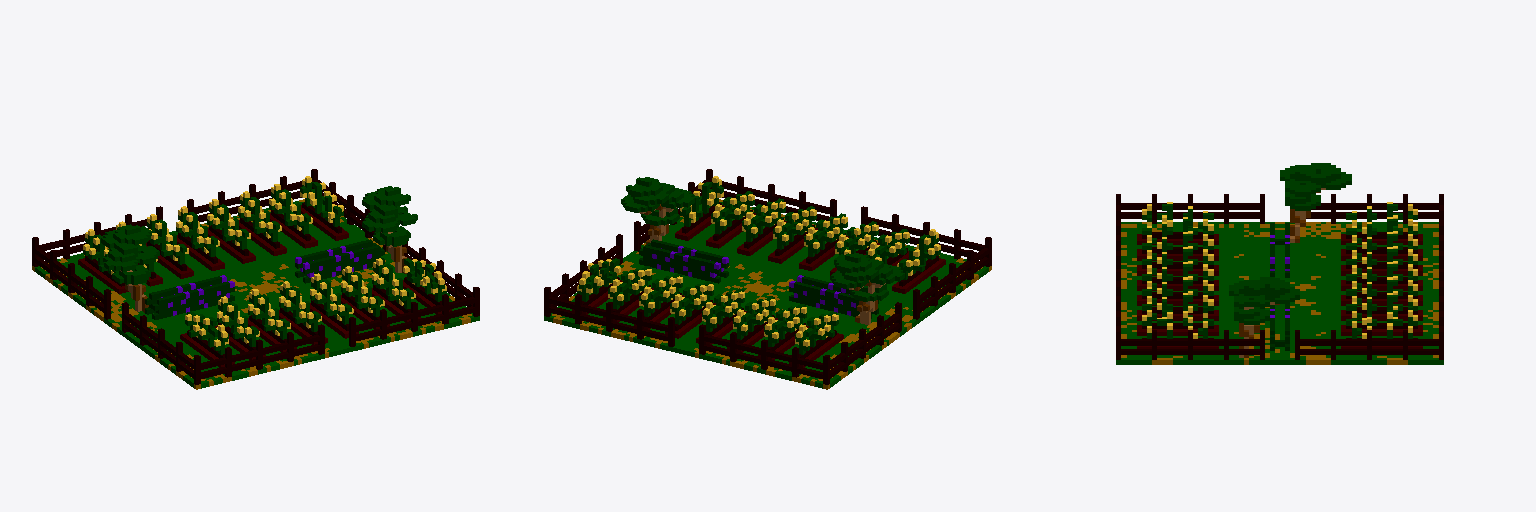
3 views of the same model, side by side, from view 1: azimuth 30°, elevation 25°; view 2: azimuth 150°, elevation 25°; view 3: azimuth 270°, elevation 25° (orthographic).
Parts seen in each view (by area): view 1: FarmWinWIn; view 2: FarmWinWIn; view 3: FarmWinWIn.
Part boxes in pixels (left/top/right/bottom): FarmWinWIn: left=32, top=169, right=479, bottom=389; FarmWinWIn: left=544, top=169, right=991, bottom=389; FarmWinWIn: left=1116, top=163, right=1443, bottom=364.
Bounding box in the file's own units: 64 × 17 × 64.
1 materials, 1 textured.